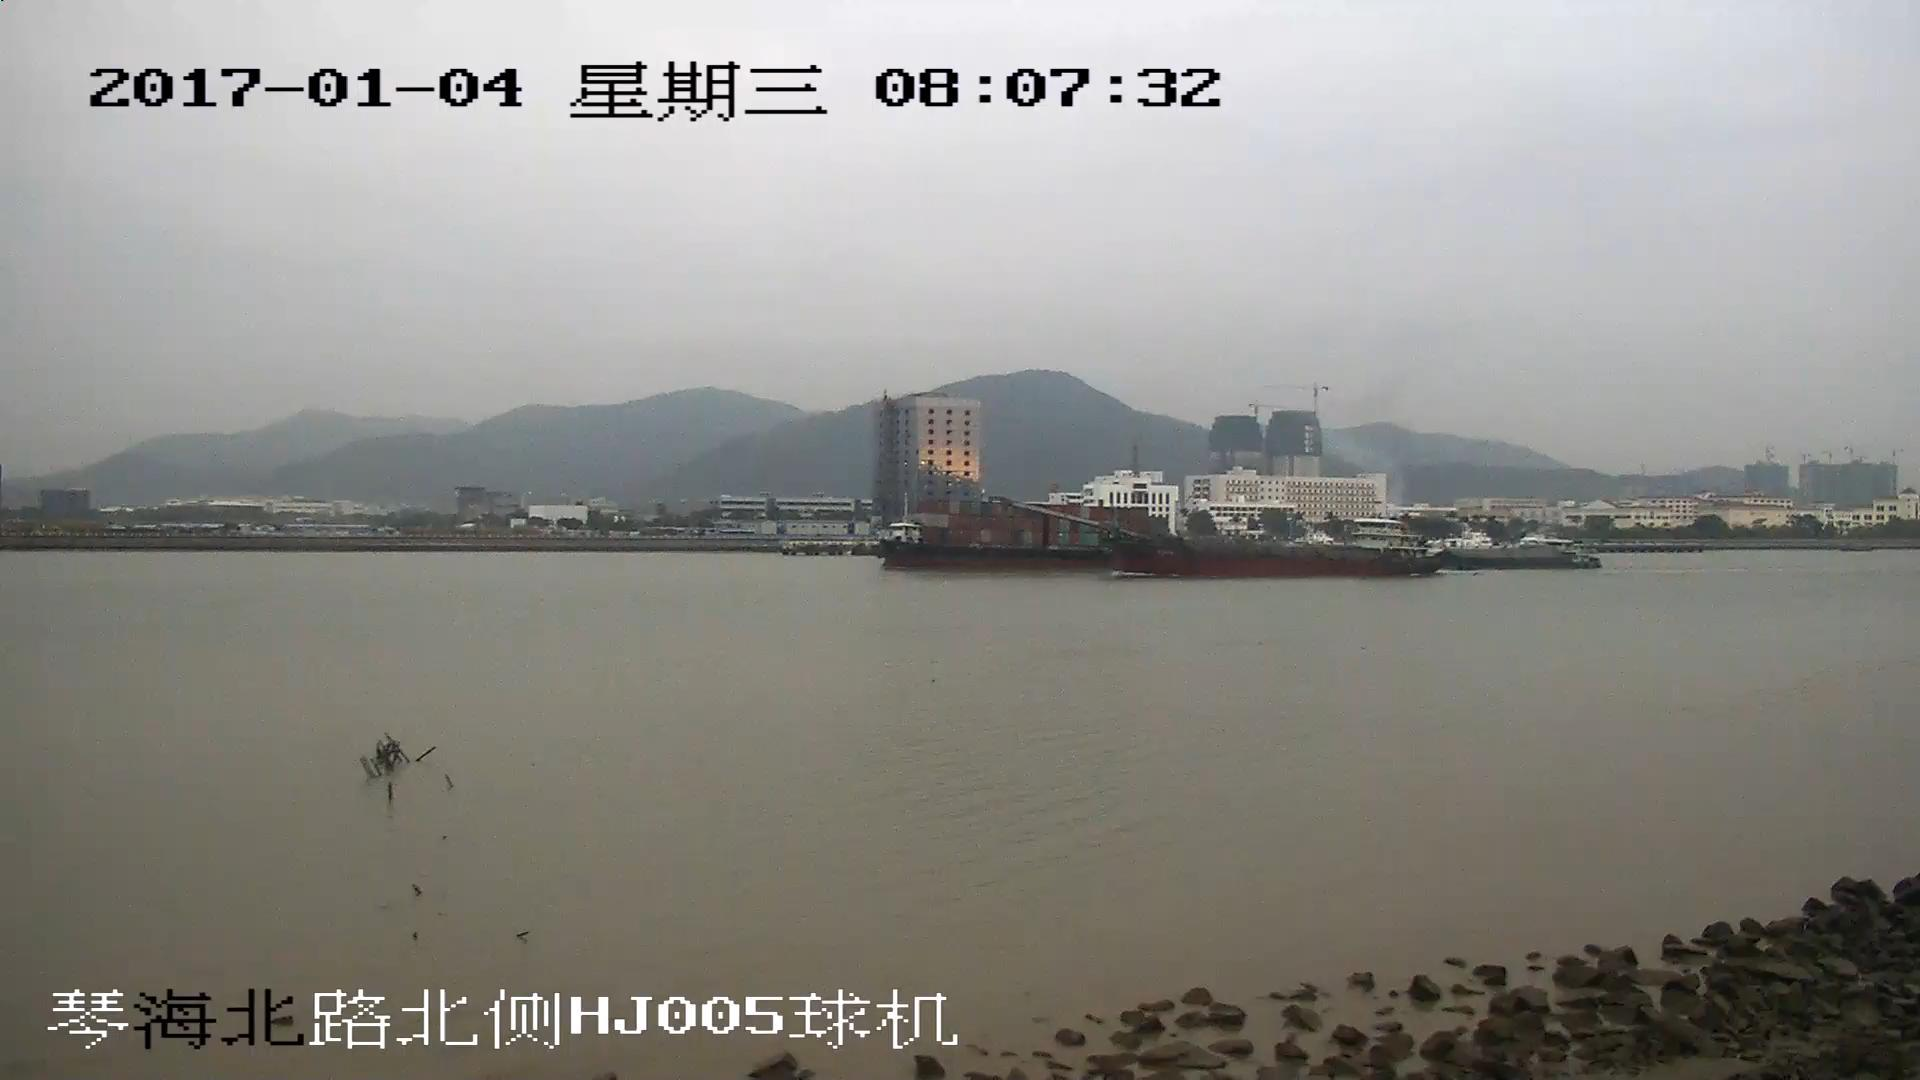Ship: (1021, 501, 1427, 574), (880, 498, 1040, 559), (1441, 545, 1601, 571)
